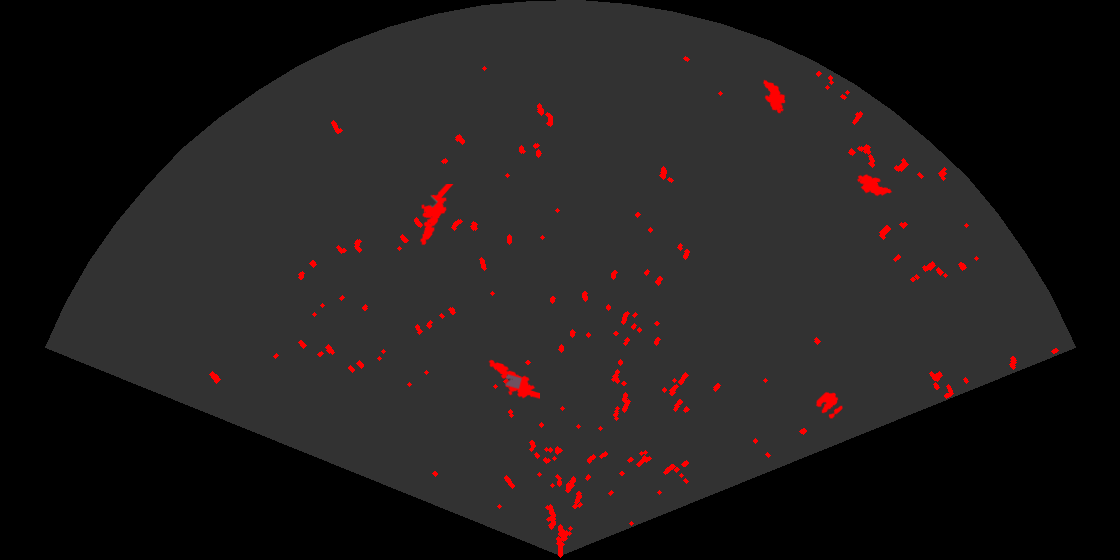AUV: (855, 173, 894, 198), (761, 78, 787, 115)
ball: (814, 390, 844, 420)
frogman: (418, 184, 455, 247), (487, 358, 540, 401)
